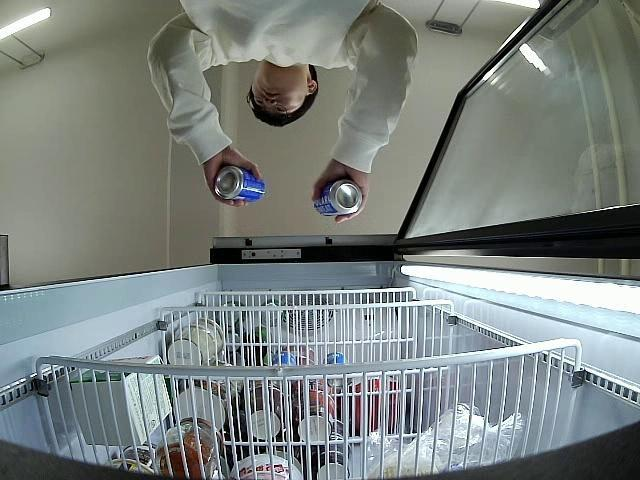13_pocariSweat: (213, 164, 267, 204), (312, 177, 362, 218)
